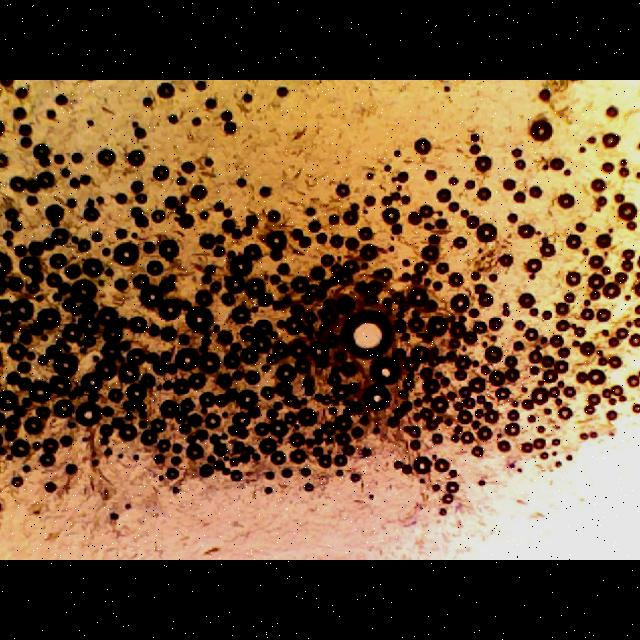microbeads: (340, 312, 394, 356), (368, 356, 402, 389), (363, 383, 393, 411)
